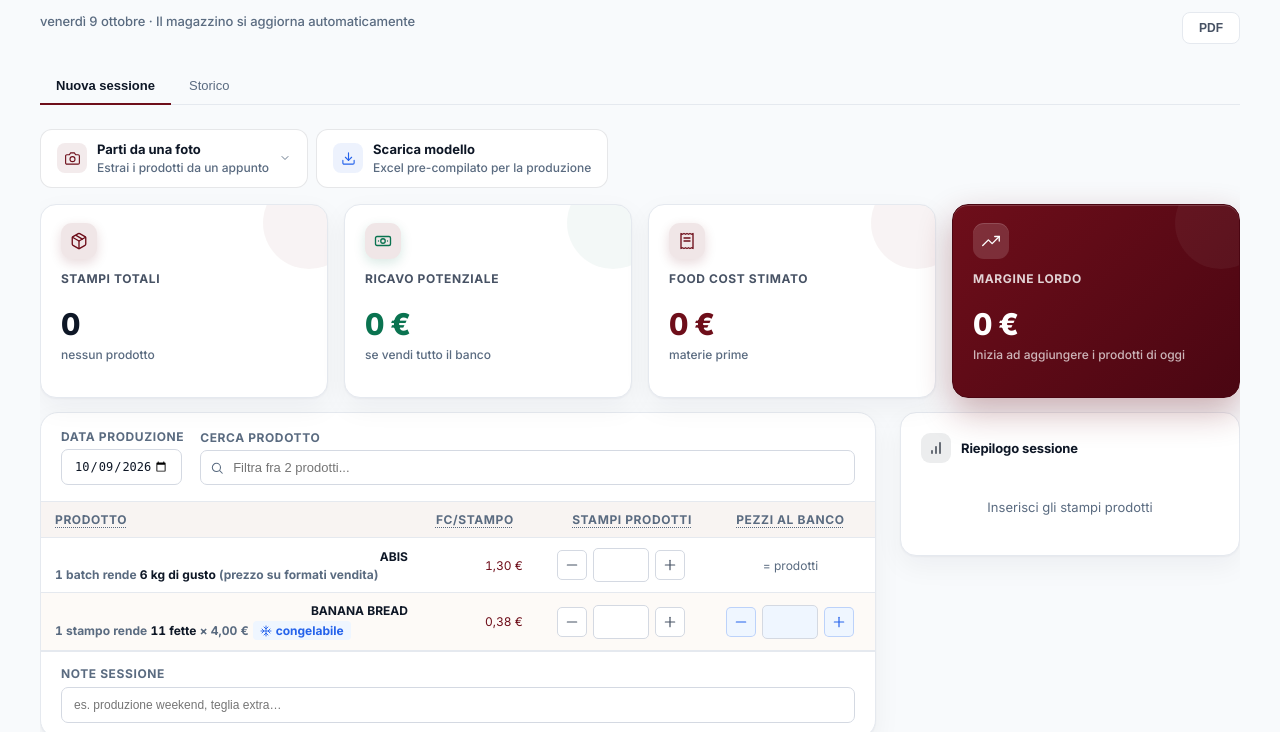
Test: storico — un numero che manca si dice, non si inventa › un food cost VERAMENTE zero resta zero: lo zero è una risposta
This screenshot has width=1280, height=732.
Click the button "Storico" at (209, 86), box [173, 68, 246, 105]
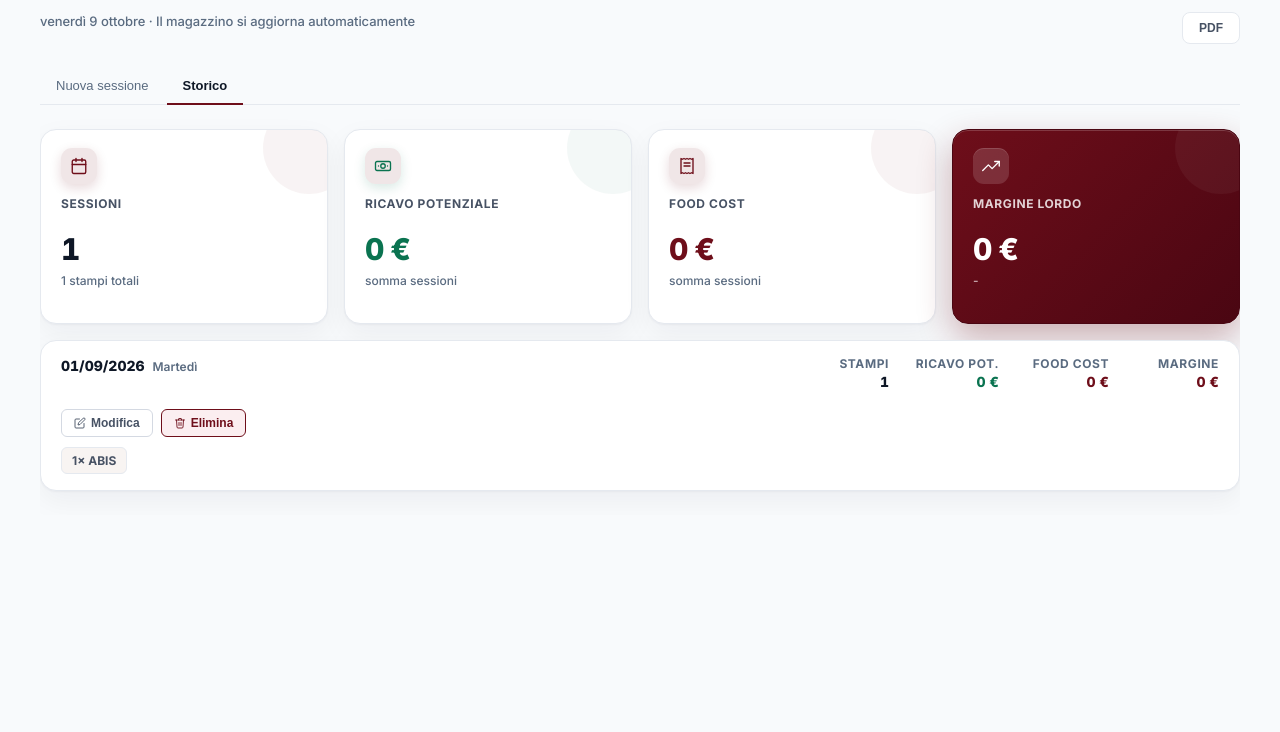
Expected: the text "0 €" is shown, [365, 231, 410, 267]
Now the text "Sessioni" is shown, box [61, 196, 122, 211]
